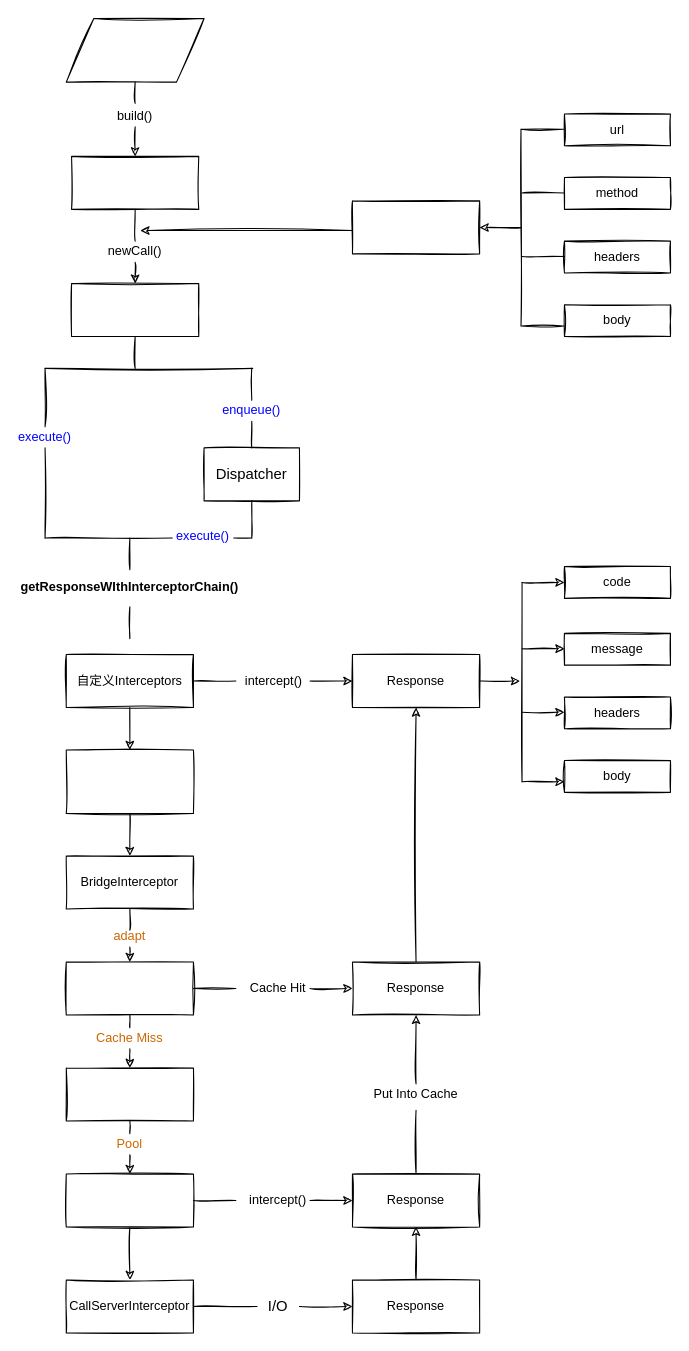
The diagram is 689 pixels wide and 1351 high, and some of its shapes have lost their labels. Here are the shapes that lost their labels. From the top down, the centre of each, then its label:
pixel 134 49: OkHttpClient .Builder
pixel 134 182: OkHttpClient
pixel 415 227: Request
pixel 134 309: RealCall
pixel 129 781: RetryAndFollowUp Interceptor
pixel 129 988: CacheInterceptor
pixel 129 1094: ConectInterceptor
pixel 129 1200: 自定义NetworkInterceptor
